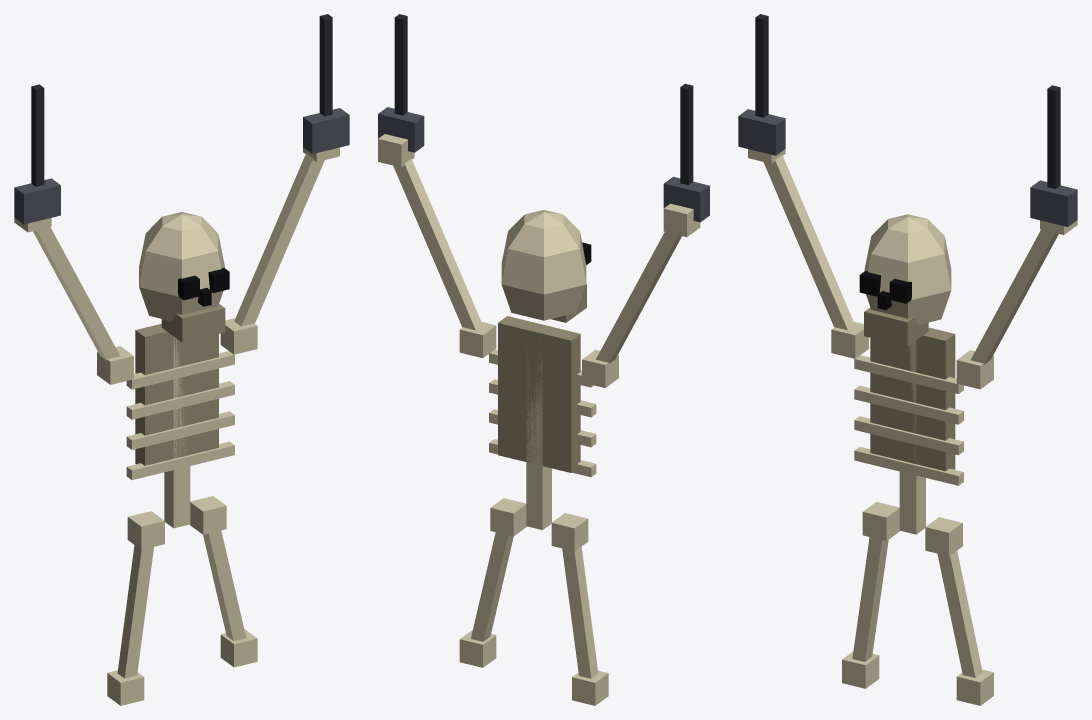
File: skeleton_chained.fbx
The picture shows the model from 3 angles, left to right: view 1: azimuth 30°, elevation 25°; view 2: azimuth 150°, elevation 25°; view 3: azimuth 330°, elevation 25°; orthographic projection. The views are drawn at different scales.
Visible parts, largest first — view 1: skeleton_chained; view 2: skeleton_chained; view 3: skeleton_chained.
Part boxes in pixels (x1,y1,x2,y2): skeleton_chained: (14, 14, 349, 705); skeleton_chained: (378, 14, 709, 705); skeleton_chained: (738, 14, 1077, 705).
Size of the model in its own units: 1.58 by 2.95 by 0.3961.
